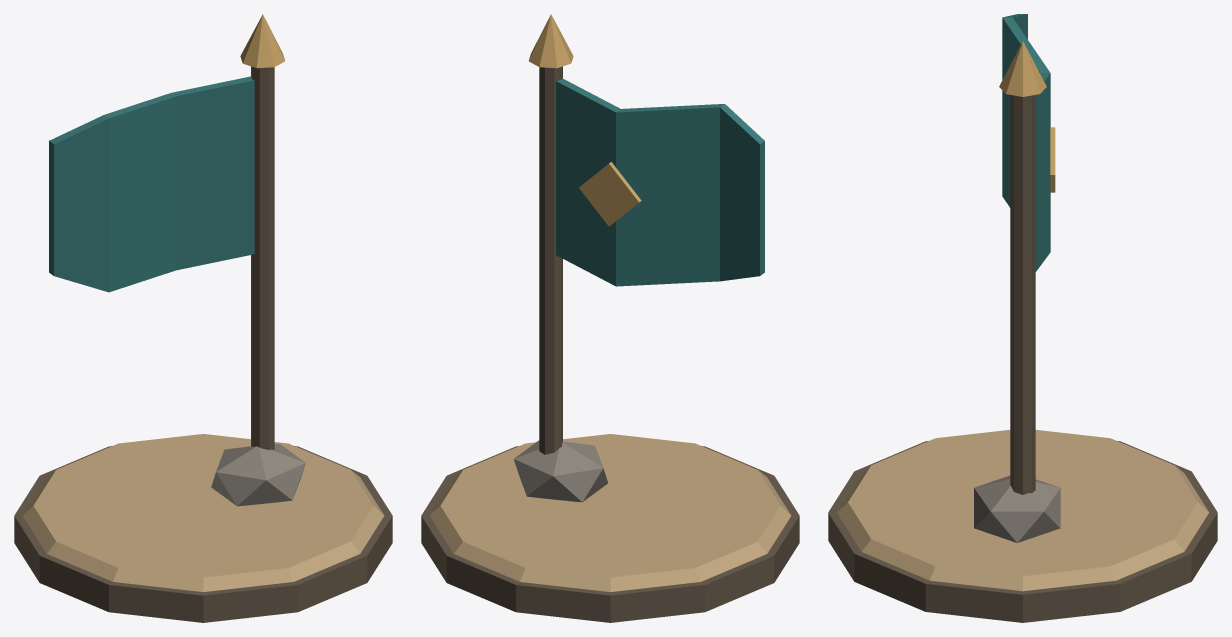
File: WorldParty_Flag.fbx
3 renders of one model, left to right at view 1: azimuth 30°, elevation 25°; view 2: azimuth 150°, elevation 25°; view 3: azimuth 270°, elevation 25°, orthographic. The views are drawn at different scales.
Parts seen in each view (by area): view 1: WorldParty_Flag; view 2: WorldParty_Flag; view 3: WorldParty_Flag.
Part boxes in pixels (bbox=[...]): WorldParty_Flag: bbox=[14, 14, 392, 622]; WorldParty_Flag: bbox=[421, 14, 799, 622]; WorldParty_Flag: bbox=[828, 14, 1217, 622].
Size of the model in its own units: 1.38 by 2.07 by 1.38.
